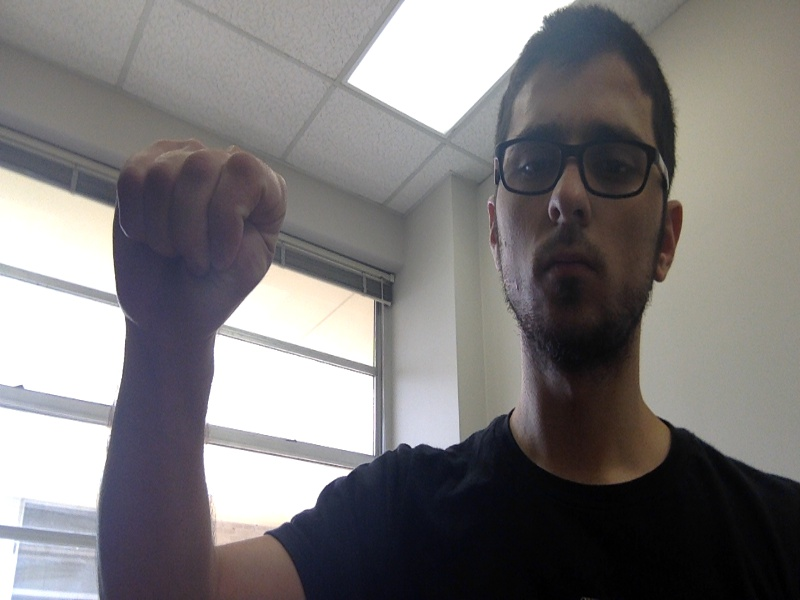0-hand: (112, 135, 290, 337)
